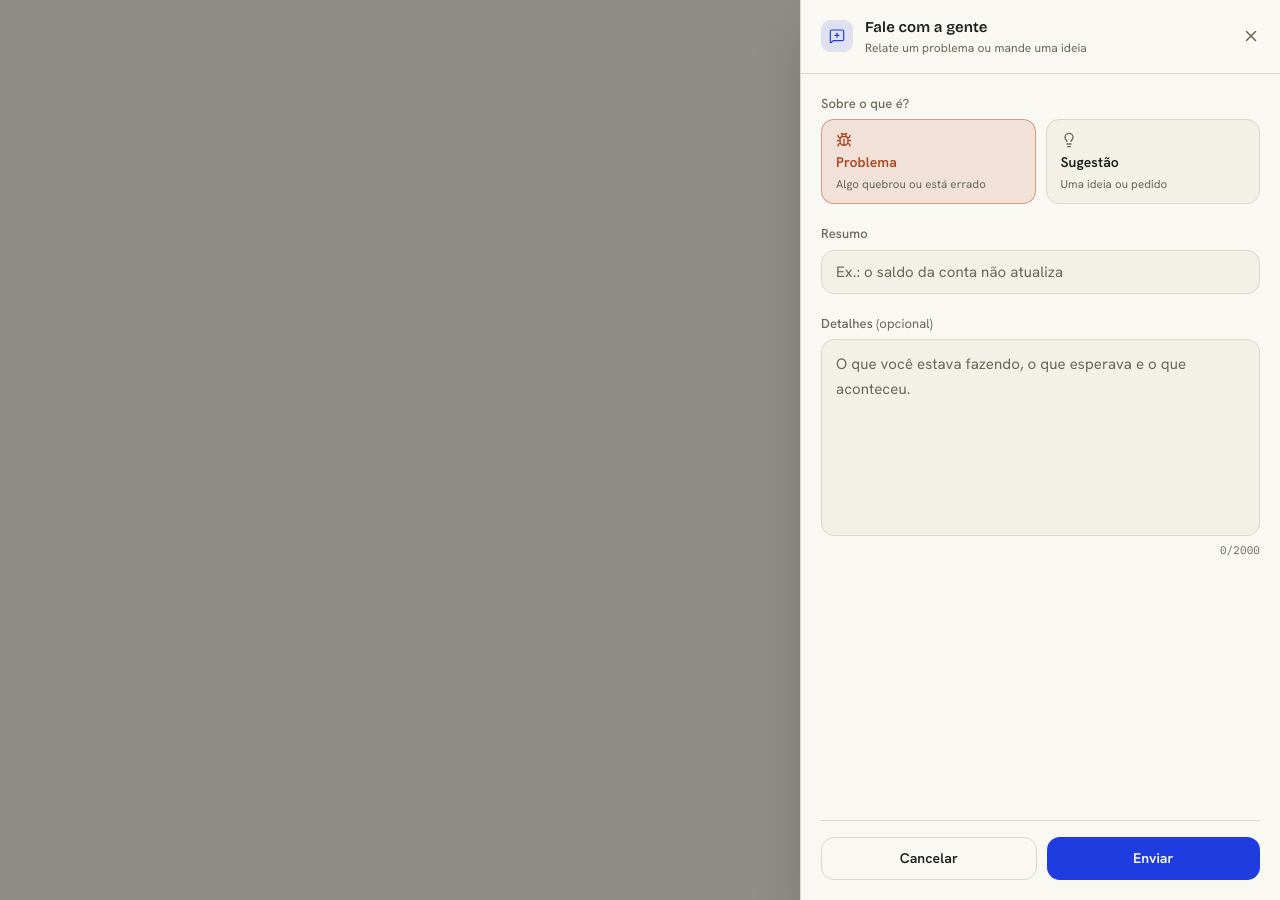
Test case: FeedbackDrawer › keeps the typed text on the screen when the request fails
In the field labelled "Resumo": (1040, 272) [821,250,1260,294], type "O saldo não atualiza"
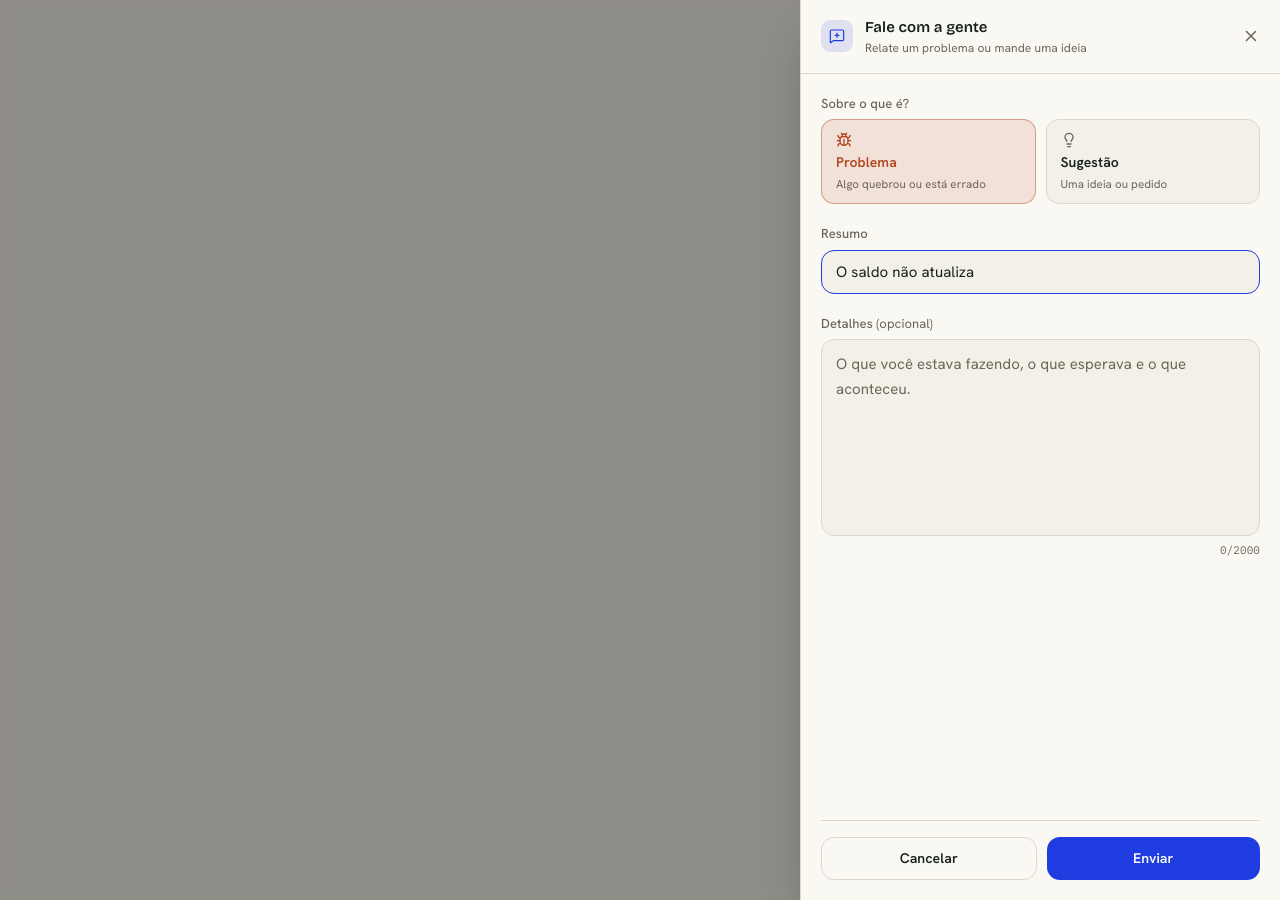
Click the button "Enviar": (1153, 858) [1046,837,1260,880]
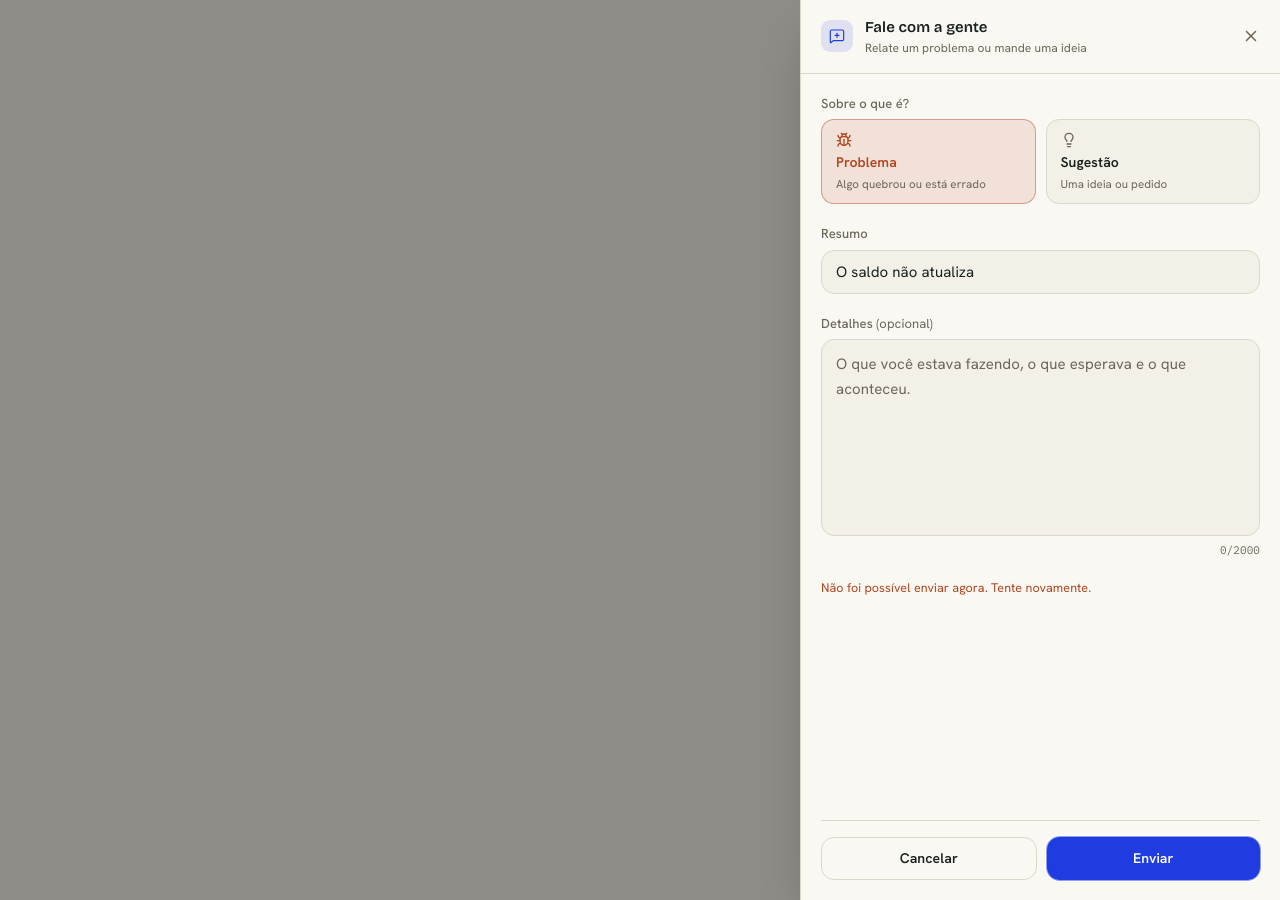
Check: the text "Não foi possível enviar agora. Tente novamente." is shown, box [821,578,1091,596]
